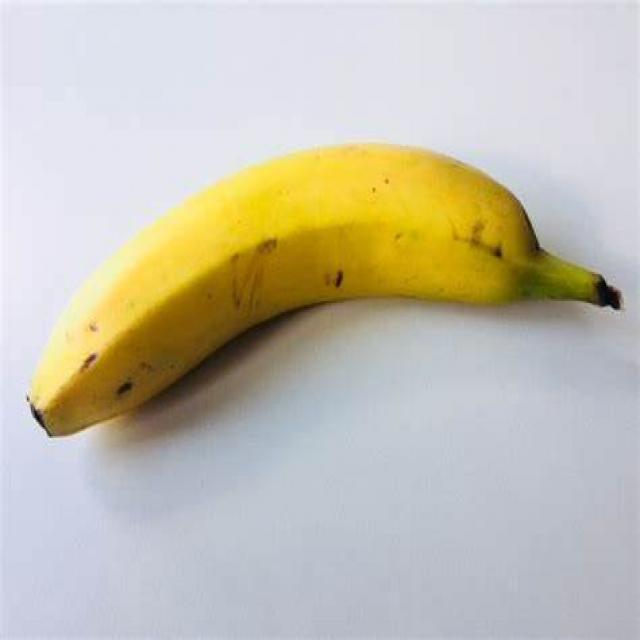Banana: (26, 142, 624, 445)
